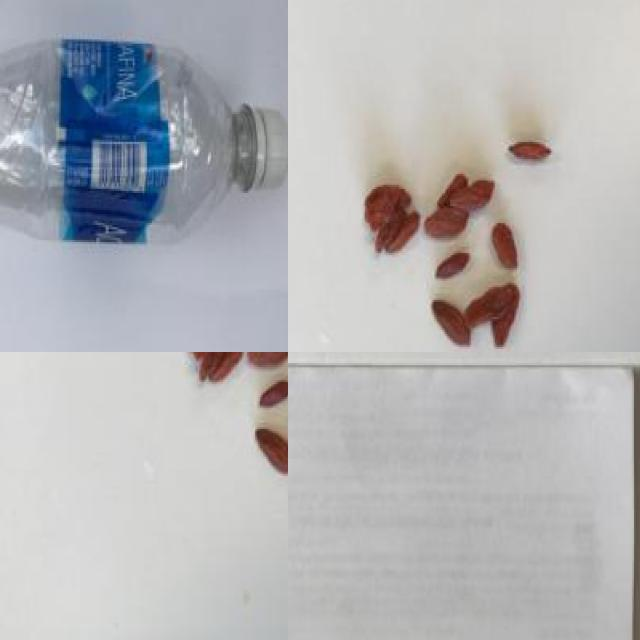compost: (343, 83, 595, 352), (177, 352, 288, 496)
paper: (288, 367, 640, 640)
plastic: (0, 28, 288, 245)
